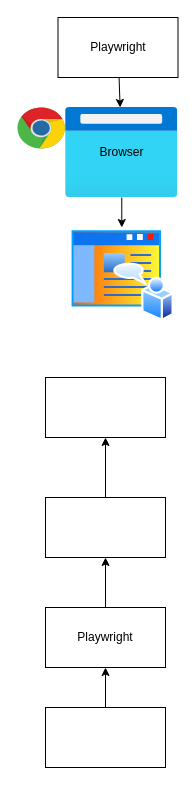
Some shapes in this 196 by 785 pixel diagram are drawn without their labels. Each missing label, with the box of its shape:
DI Layer: (44, 706, 166, 768)
NUnit: (44, 496, 166, 558)
